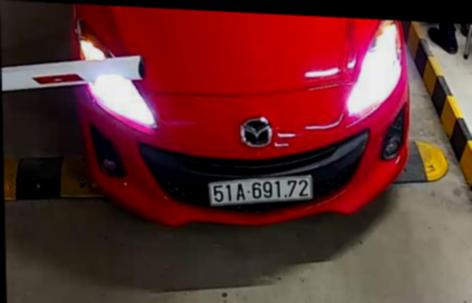License_Plate: (202, 170, 315, 211)
